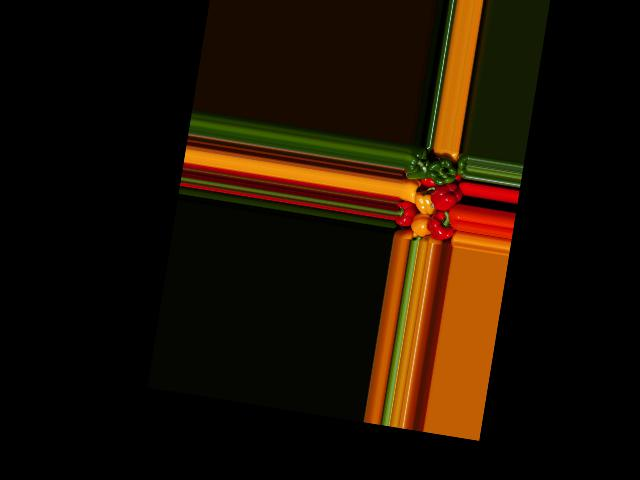bell_pepper: (451, 151, 470, 179)
